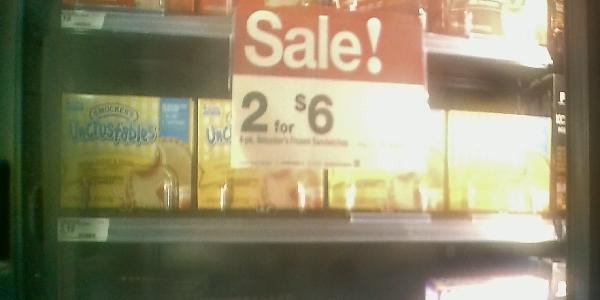icecream: (59, 92, 195, 211), (196, 94, 328, 213), (328, 96, 446, 217), (445, 109, 551, 217)
